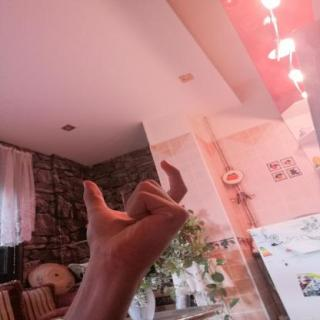NOON: (65, 149, 202, 279)
